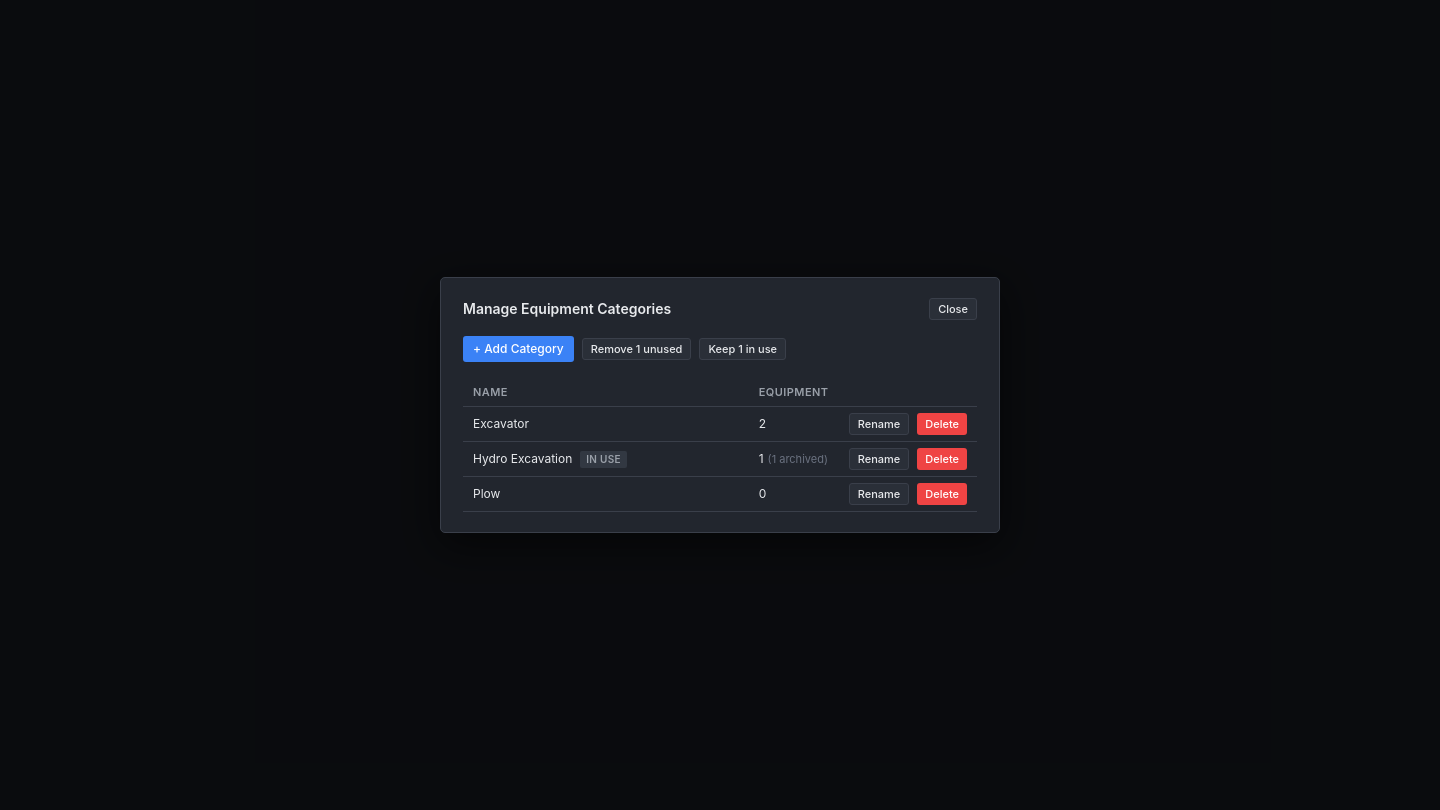
it: renaming a category › surfaces a backend rejection instead of pretending it saved
Click the button "Rename" in the row of "Excavator": point(879, 424) [849, 413, 909, 435]
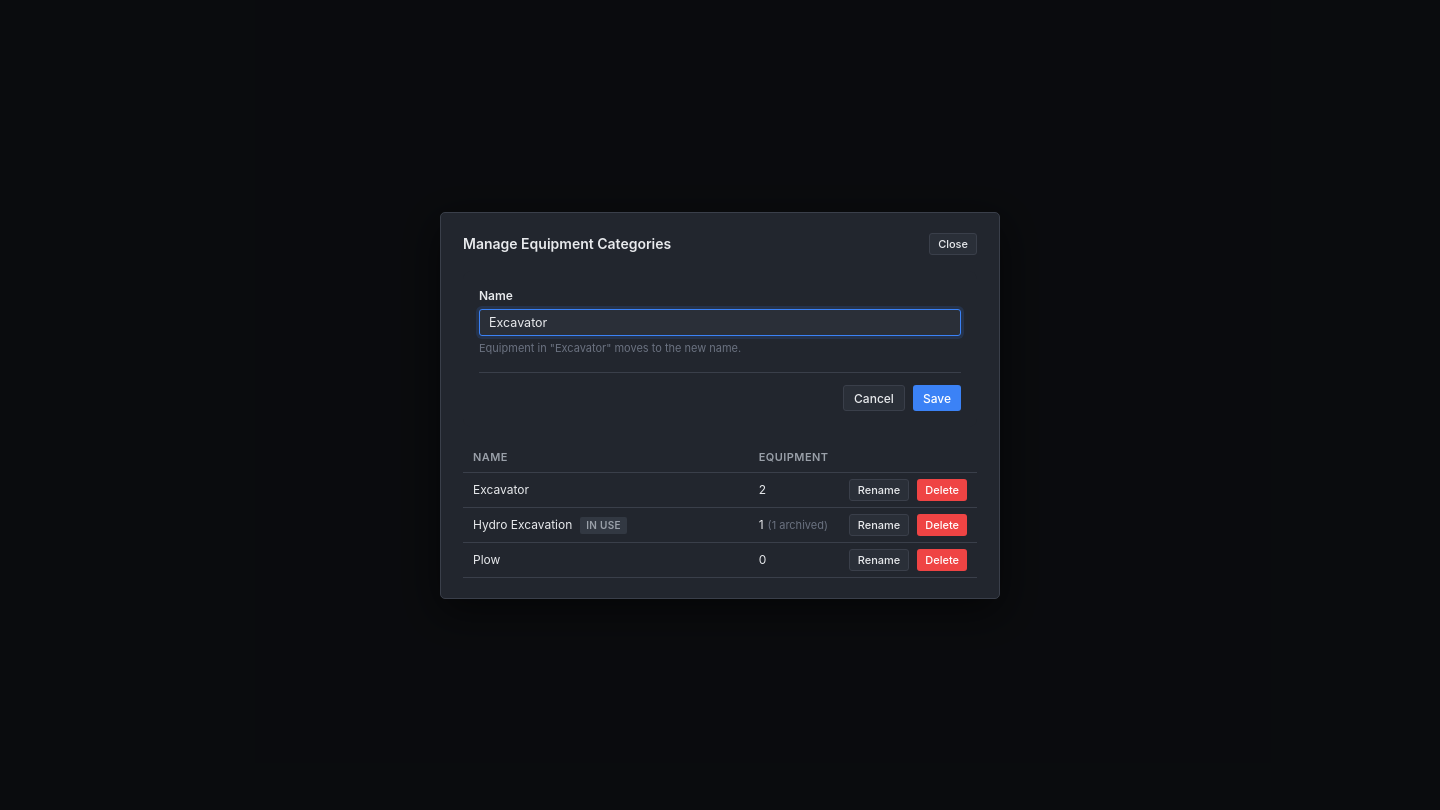
Replace the text in the field labelled "Name" with "Diggers": point(720, 322) [479, 308, 961, 336]
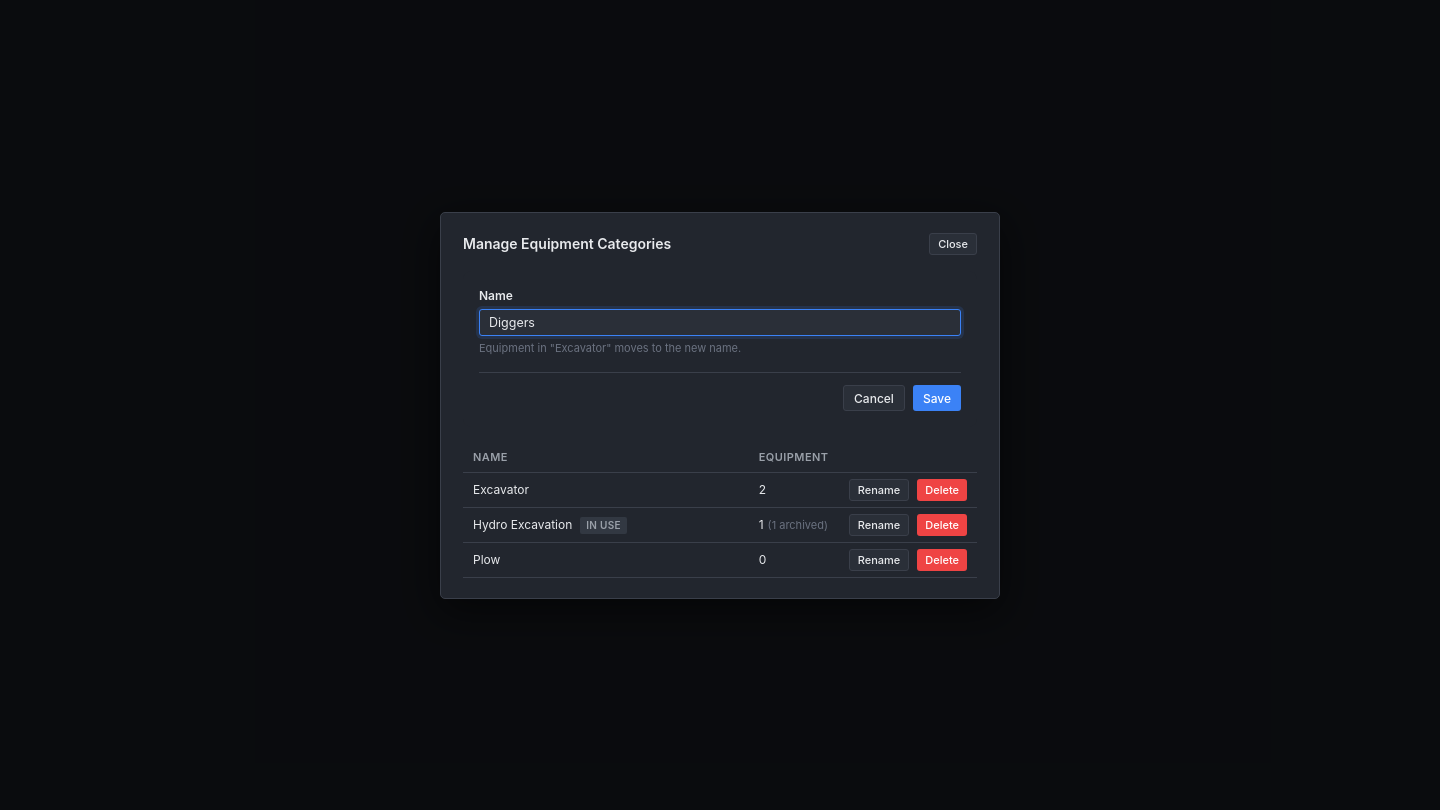
Click the button "Save": point(937, 398) [913, 385, 961, 411]
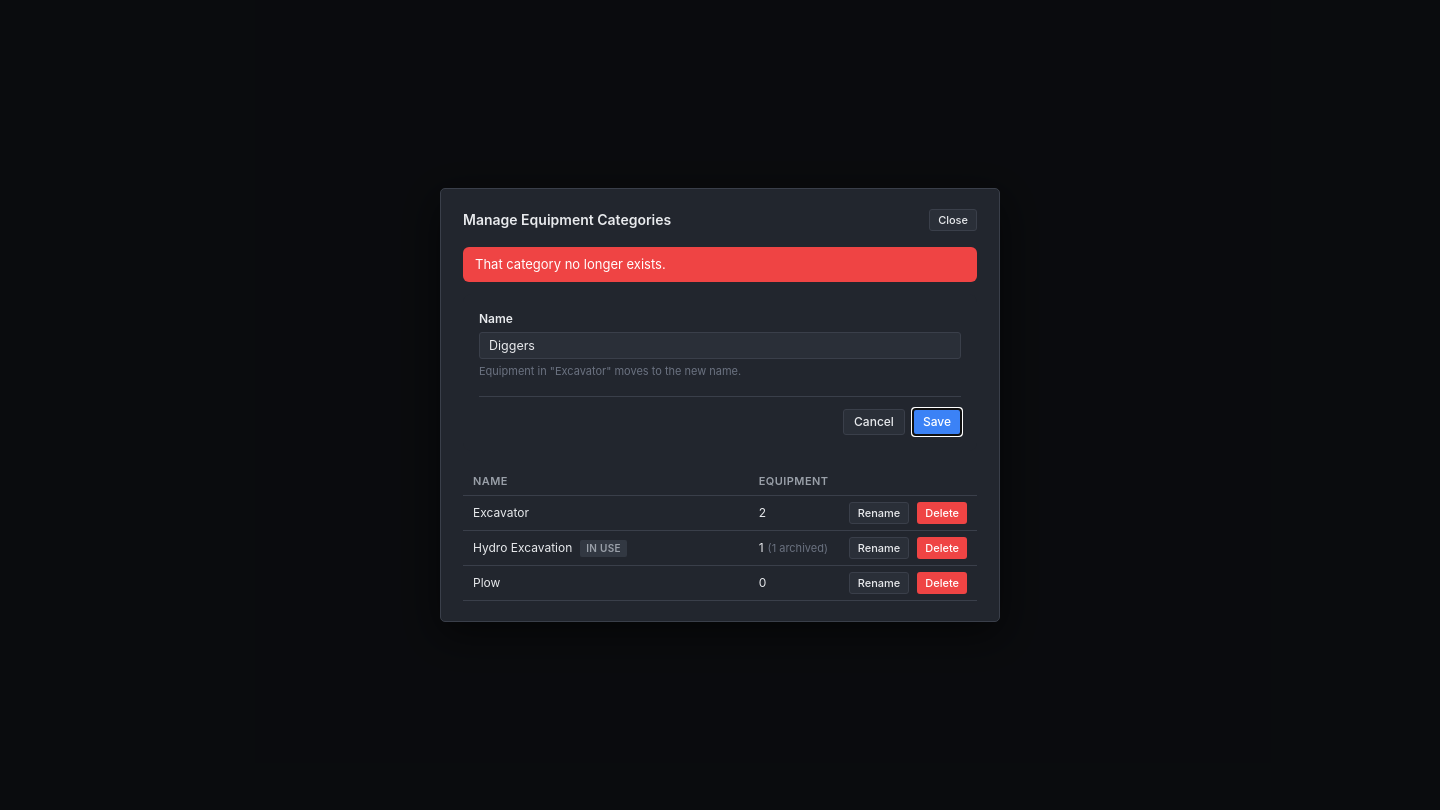
Result: the text "That category no longer exists." is shown at [463, 247, 977, 282]
